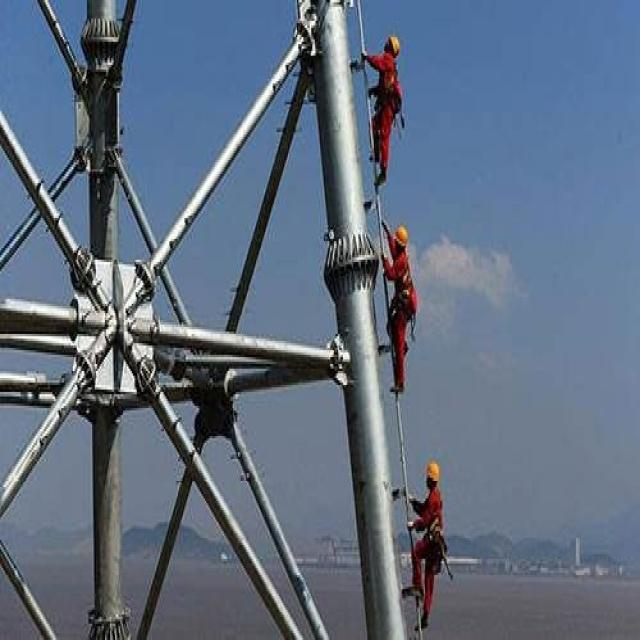helmet: (392, 291, 410, 337), (384, 40, 402, 80), (424, 603, 442, 640)
